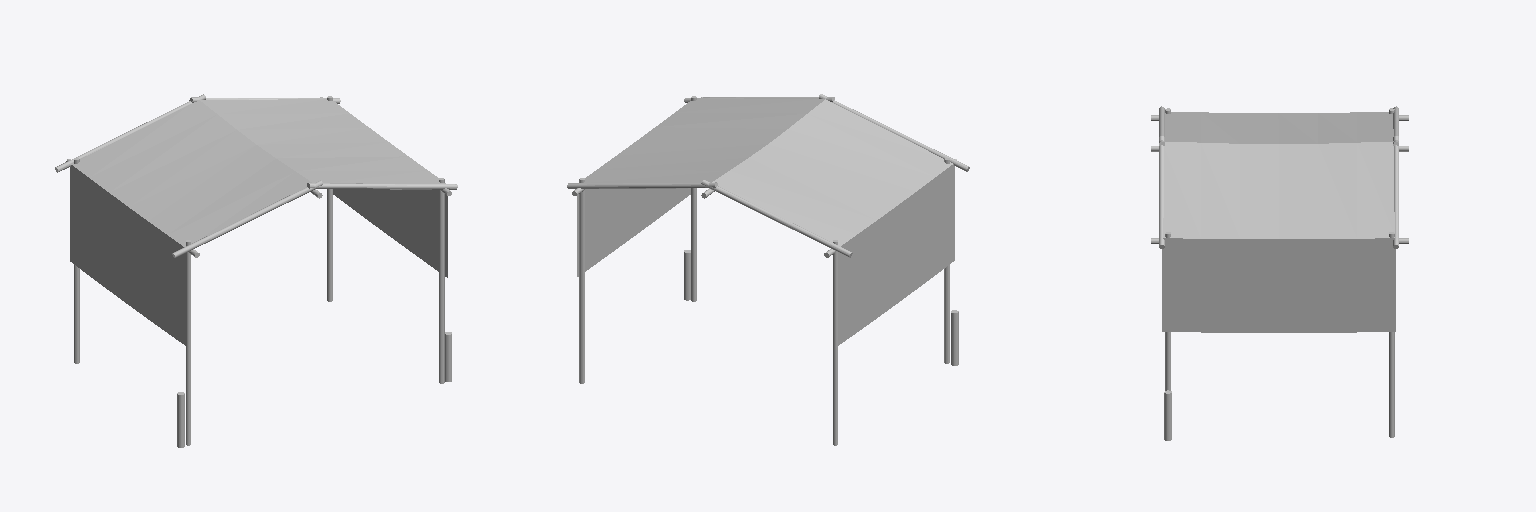
Rendered from medieval_tent_1_003.obj.
The picture shows the model from 3 angles: view 1: azimuth 30°, elevation 25°; view 2: azimuth 150°, elevation 25°; view 3: azimuth 270°, elevation 25°; orthographic projection.
Visible parts, largest first — view 1: ClothArched_ClothArched_Plane.000, PolesArched_PolesArched_Cylinder.019; view 2: ClothArched_ClothArched_Plane.000, PolesArched_PolesArched_Cylinder.019; view 3: ClothArched_ClothArched_Plane.000, PolesArched_PolesArched_Cylinder.019.
Boxes of the visible parts, <box> form: ClothArched_ClothArched_Plane.000: <box>70,99,447,346</box>; PolesArched_PolesArched_Cylinder.019: <box>55,94,457,447</box>; ClothArched_ClothArched_Plane.000: <box>577,98,954,345</box>; PolesArched_PolesArched_Cylinder.019: <box>567,94,969,445</box>; ClothArched_ClothArched_Plane.000: <box>1162,112,1395,332</box>; PolesArched_PolesArched_Cylinder.019: <box>1151,106,1408,440</box>.
Size of the model in its own units: 2.34 by 1.85 by 1.83.